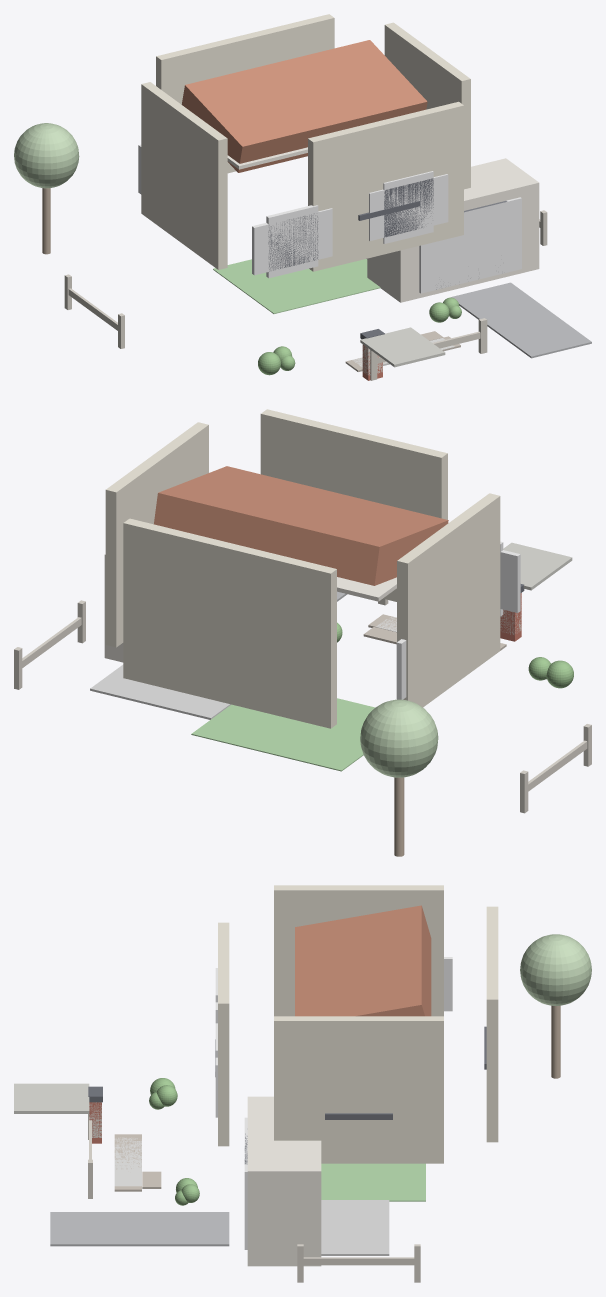
File: BUILDING_HOUSE_SUBURBAN_BRICK_001_LOD_CLOSE.glb
3 views of the same model, one above another, from view 1: azimuth 30°, elevation 25°; view 2: azimuth 150°, elevation 25°; view 3: azimuth 270°, elevation 25° (orthographic). The views are drawn at different scales.
Parts seen in each view (by area): view 1: MOD_ROOF_TILE_STANDARD_001_gable_tile_roof_ROOF, MOD_WALL_BRICK_SUBURBAN_001_cream_brick_wall_WALL.003, MOD_WALL_BRICK_SUBURBAN_001_cream_brick_wall_WALL, MOD_WINDOW_RESIDENTIAL_STANDARD_001_double_standard_window_F (×2), MOD_WALL_BRICK_SUBURBAN_001_cream_brick_wall_WALL.002, MOD_GARAGE_RESIDENTIAL_STANDARD_001_double_garage_front_DOOR, MOD_GARAGE_RESIDENTIAL_STANDARD_001_double_garage_front_SHEL, MOD_DRIVEWAY_STANDARD_SINGLE_001_CLOSE_SURFACE, MOD_GROUND_GRASS_STANDARD_001_CLOSE_PATCH, MOD_WALL_BRICK_SUBURBAN_001_cream_brick_wall_WALL.001, MOD_TREE_EUCALYPTUS_STANDARD_001_CLOSE_CANOPY, MOD_WINDOW_RESIDENTIAL_STANDARD_001_tall_narrow_window_FRAME (+7 smaller); view 2: MOD_WALL_BRICK_SUBURBAN_001_cream_brick_wall_WALL.002, MOD_ROOF_TILE_STANDARD_001_gable_tile_roof_ROOF, MOD_WALL_BRICK_SUBURBAN_001_cream_brick_wall_WALL, MOD_WALL_BRICK_SUBURBAN_001_cream_brick_wall_WALL.003, MOD_WALL_BRICK_SUBURBAN_001_cream_brick_wall_WALL.001, MOD_GROUND_GRASS_STANDARD_001_CLOSE_PATCH, MOD_TREE_EUCALYPTUS_STANDARD_001_CLOSE_CANOPY, MOD_GARAGE_RESIDENTIAL_STANDARD_001_double_garage_front_PAD, MOD_WINDOW_RESIDENTIAL_STANDARD_001_double_standard_window_F (×2), MOD_PATH_STANDARD_001_CLOSE_SURFACE, MOD_ROOF_TILE_STANDARD_001_gable_tile_roof_FASCIA, MOD_TREE_EUCALYPTUS_STANDARD_001_CLOSE_TRUNK (+4 smaller); view 3: MOD_WALL_BRICK_SUBURBAN_001_cream_brick_wall_WALL.001, MOD_ROOF_TILE_STANDARD_001_gable_tile_roof_ROOF, MOD_GARAGE_RESIDENTIAL_STANDARD_001_double_garage_front_SHEL, MOD_WALL_BRICK_SUBURBAN_001_cream_brick_wall_WALL, MOD_DRIVEWAY_STANDARD_SINGLE_001_CLOSE_SURFACE, MOD_TREE_EUCALYPTUS_STANDARD_001_CLOSE_CANOPY, MOD_GROUND_GRASS_STANDARD_001_CLOSE_PATCH, MOD_GARAGE_RESIDENTIAL_STANDARD_001_double_garage_front_PAD, MOD_WALL_BRICK_SUBURBAN_001_cream_brick_wall_WALL.002, MOD_WALL_BRICK_SUBURBAN_001_cream_brick_wall_WALL.003, MOD_PATH_STANDARD_001_CLOSE_SURFACE, MOD_ENTRY_PATH_SUBURBAN_001_driveway_to_porch_entry_PATH (+5 smaller).
Part boxes in pixels (left/top/right/bottom): MOD_ROOF_TILE_STANDARD_001_gable_tile_roof_ROOF: left=181, top=40, right=427, bottom=172; MOD_WALL_BRICK_SUBURBAN_001_cream_brick_wall_WALL.003: left=308, top=101, right=463, bottom=271; MOD_WALL_BRICK_SUBURBAN_001_cream_brick_wall_WALL: left=141, top=82, right=227, bottom=269; MOD_WINDOW_RESIDENTIAL_STANDARD_001_double_standard_window_F (×2): left=252, top=174, right=448, bottom=275; MOD_WALL_BRICK_SUBURBAN_001_cream_brick_wall_WALL.002: left=156, top=14, right=334, bottom=173; MOD_GARAGE_RESIDENTIAL_STANDARD_001_double_garage_front_DOOR: left=419, top=197, right=521, bottom=293; MOD_GARAGE_RESIDENTIAL_STANDARD_001_double_garage_front_SHEL: left=367, top=158, right=539, bottom=302; MOD_DRIVEWAY_STANDARD_SINGLE_001_CLOSE_SURFACE: left=450, top=282, right=591, bottom=358; MOD_GROUND_GRASS_STANDARD_001_CLOSE_PATCH: left=213, top=259, right=380, bottom=313; MOD_WALL_BRICK_SUBURBAN_001_cream_brick_wall_WALL.001: left=384, top=22, right=470, bottom=189; MOD_TREE_EUCALYPTUS_STANDARD_001_CLOSE_CANOPY: left=14, top=123, right=79, bottom=188; MOD_WINDOW_RESIDENTIAL_STANDARD_001_tall_narrow_window_FRAME: left=266, top=205, right=318, bottom=278; MOD_WALL_BRICK_SUBURBAN_001_cream_brick_wall_WALL.002: left=123, top=518, right=336, bottom=728; MOD_ROOF_TILE_STANDARD_001_gable_tile_roof_ROOF: left=154, top=466, right=448, bottom=585; MOD_WALL_BRICK_SUBURBAN_001_cream_brick_wall_WALL: left=397, top=493, right=500, bottom=707; MOD_WALL_BRICK_SUBURBAN_001_cream_brick_wall_WALL.003: left=260, top=409, right=447, bottom=601; MOD_WALL_BRICK_SUBURBAN_001_cream_brick_wall_WALL.001: left=105, top=422, right=208, bottom=647; MOD_GROUND_GRASS_STANDARD_001_CLOSE_PATCH: left=191, top=698, right=375, bottom=771; MOD_TREE_EUCALYPTUS_STANDARD_001_CLOSE_CANOPY: left=360, top=699, right=438, bottom=777; MOD_GARAGE_RESIDENTIAL_STANDARD_001_double_garage_front_PAD: left=90, top=664, right=230, bottom=719; MOD_WINDOW_RESIDENTIAL_STANDARD_001_double_standard_window_F (×2): left=396, top=550, right=520, bottom=699; MOD_PATH_STANDARD_001_CLOSE_SURFACE: left=503, top=542, right=572, bottom=590; MOD_ROOF_TILE_STANDARD_001_gable_tile_roof_FASCIA: left=337, top=577, right=396, bottom=601; MOD_TREE_EUCALYPTUS_STANDARD_001_CLOSE_TRUNK: left=394, top=777, right=404, bottom=856; MOD_WALL_BRICK_SUBURBAN_001_cream_brick_wall_WALL.001: left=274, top=1016, right=443, bottom=1163; MOD_ROOF_TILE_STANDARD_001_gable_tile_roof_ROOF: left=295, top=905, right=431, bottom=1016; MOD_GARAGE_RESIDENTIAL_STANDARD_001_double_garage_front_SHEL: left=247, top=1096, right=321, bottom=1266; MOD_WALL_BRICK_SUBURBAN_001_cream_brick_wall_WALL: left=274, top=885, right=443, bottom=1016; MOD_DRIVEWAY_STANDARD_SINGLE_001_CLOSE_SURFACE: left=50, top=1212, right=229, bottom=1246; MOD_TREE_EUCALYPTUS_STANDARD_001_CLOSE_CANOPY: left=520, top=934, right=591, bottom=1005; MOD_GROUND_GRASS_STANDARD_001_CLOSE_PATCH: left=321, top=1163, right=425, bottom=1201; MOD_GARAGE_RESIDENTIAL_STANDARD_001_double_garage_front_PAD: left=321, top=1200, right=389, bottom=1255; MOD_WALL_BRICK_SUBURBAN_001_cream_brick_wall_WALL.002: left=486, top=906, right=498, bottom=1142; MOD_WALL_BRICK_SUBURBAN_001_cream_brick_wall_WALL.003: left=218, top=922, right=229, bottom=1146; MOD_PATH_STANDARD_001_CLOSE_SURFACE: left=14, top=1083, right=89, bottom=1113; MOD_ENTRY_PATH_SUBURBAN_001_driveway_to_porch_entry_PATH: left=114, top=1137, right=141, bottom=1186.
Bounding box in the file's own units: 10.34 × 4.56 × 11.03.
